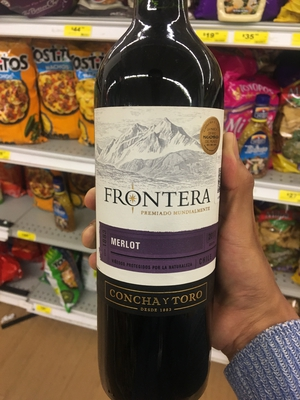frontera merlot: (81, 21, 238, 399)
